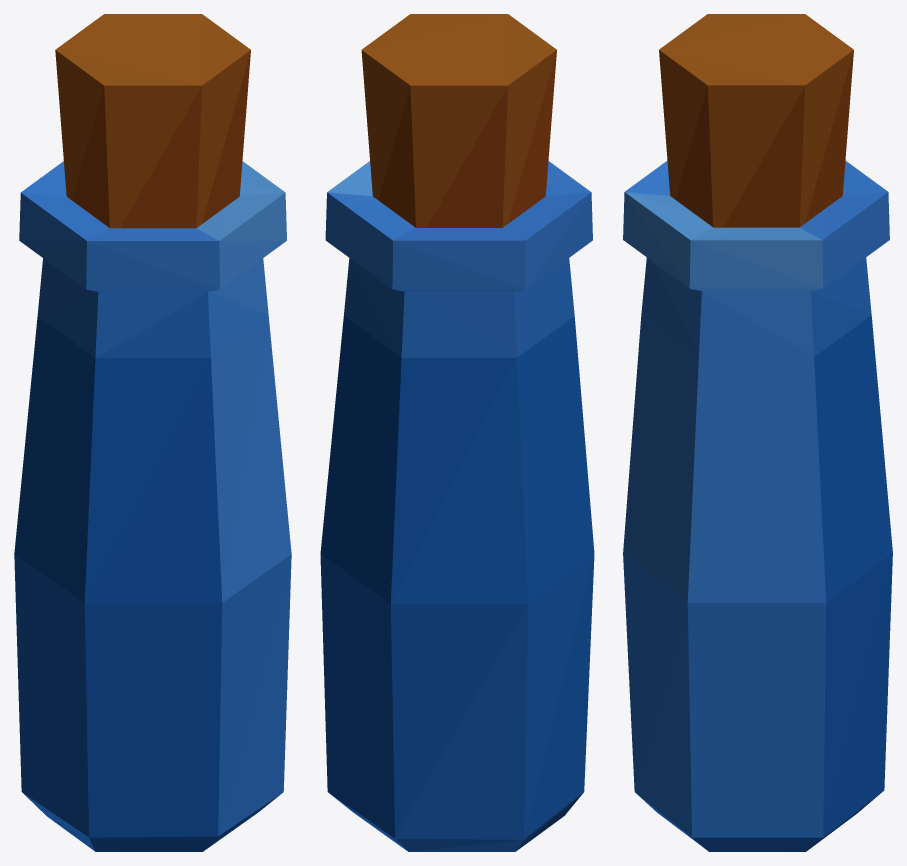
Rendered from prop_bottle_potion_mana4.fbx.
3 renders of one model, left to right at view 1: azimuth 30°, elevation 25°; view 2: azimuth 150°, elevation 25°; view 3: azimuth 270°, elevation 25°, orthographic.
Parts seen in each view (by area): view 1: prop_bottle_potion_mana4; view 2: prop_bottle_potion_mana4; view 3: prop_bottle_potion_mana4.
Part boxes in pixels (x1,y1,x2,y2): prop_bottle_potion_mana4: (14, 14, 291, 851); prop_bottle_potion_mana4: (320, 14, 594, 851); prop_bottle_potion_mana4: (623, 14, 892, 851).
Size of the model in its own units: 0.1374 by 0.4837 by 0.155.
